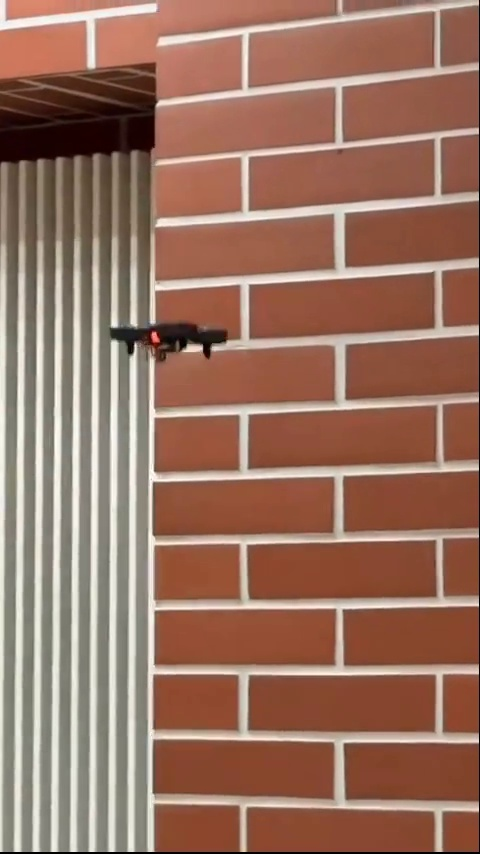drone: (107, 316, 230, 373)
